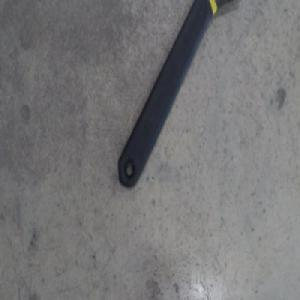AdjustableWrench: (117, 0, 224, 187)
